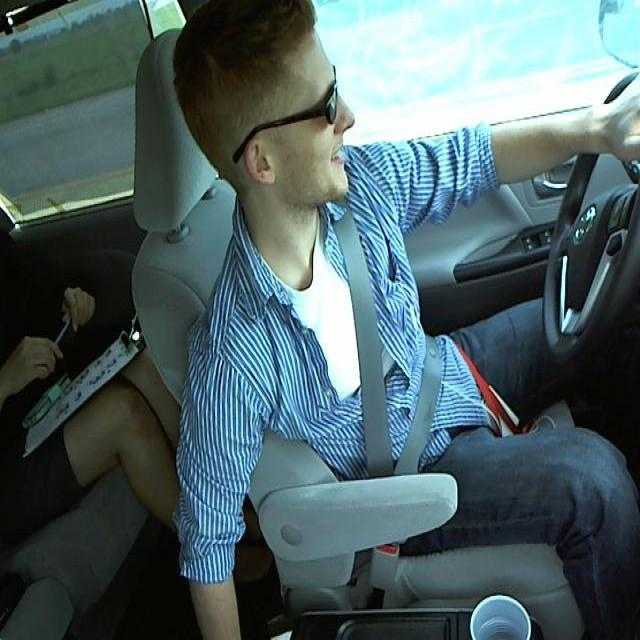seatbelt: (332, 221, 445, 464)
